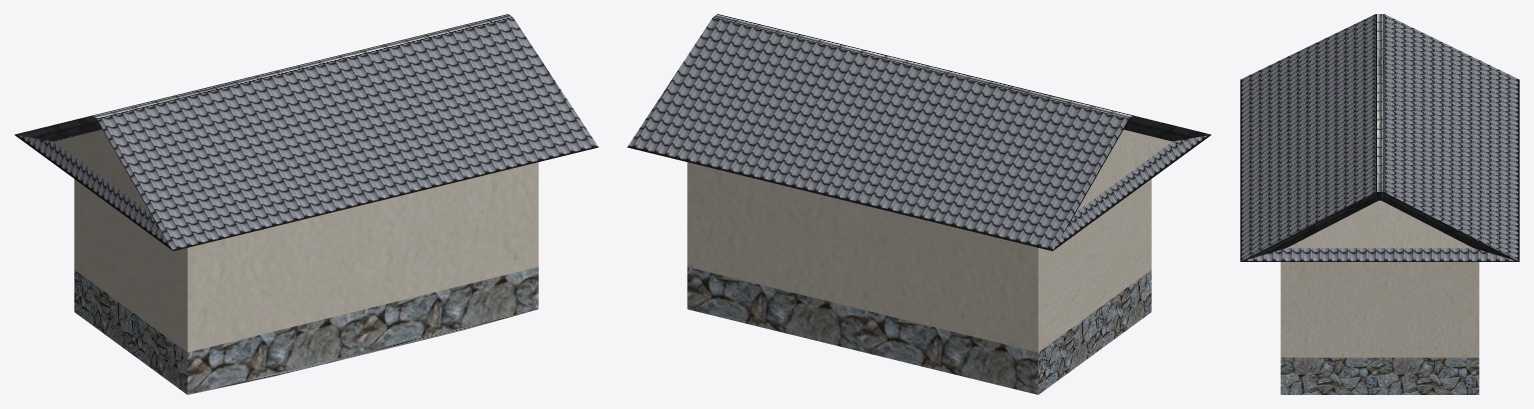
Rendered from yashiki.fbx.
3 renders of one model, left to right at view 1: azimuth 30°, elevation 25°; view 2: azimuth 150°, elevation 25°; view 3: azimuth 270°, elevation 25°, orthographic. The views are drawn at different scales.
Parts seen in each view (by area): view 1: 立方体; view 2: 立方体; view 3: 立方体.
Boxes of the visible parts, box(x1,y1,x2,y2) form: 立方体: box(14, 14, 598, 394); 立方体: box(627, 14, 1211, 394); 立方体: box(1240, 14, 1519, 394).
Size of the model in its own units: 59.06 by 32.85 by 38.28.
Materials: 3 (3 with a texture image).
